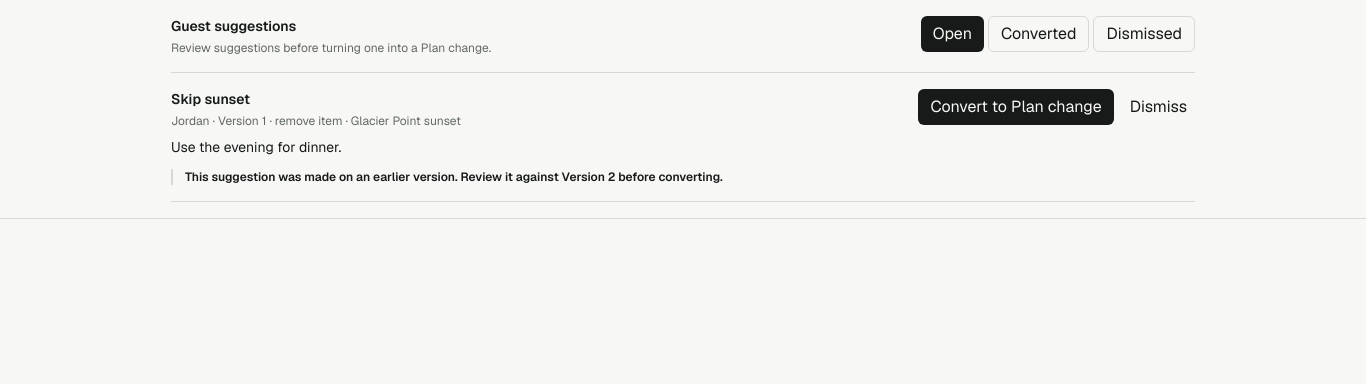
member guest suggestions panel › requires the explicit stale-version rebase confirmation
This screenshot has width=1366, height=384.
Click the button "Convert to Plan change" at (1016,107), box [918,89,1114,125]
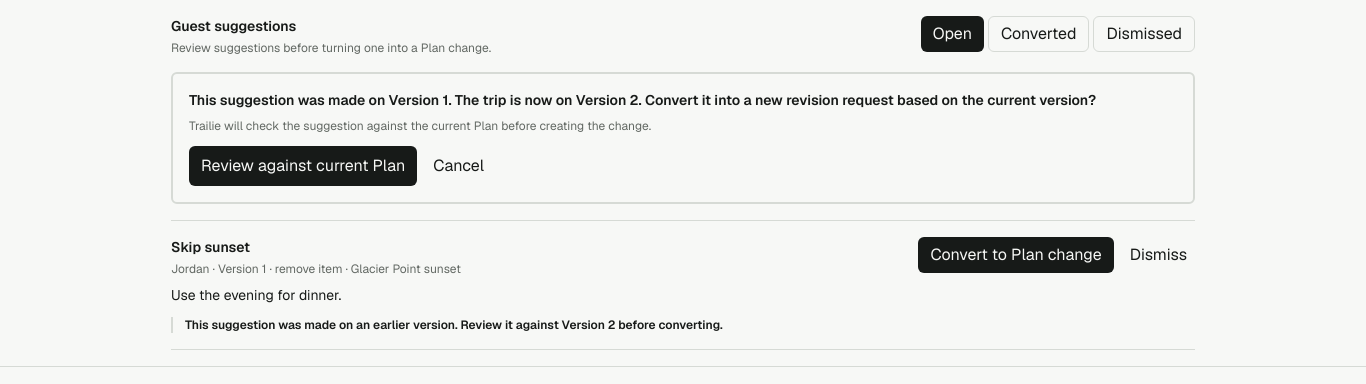
Now the message shows "This suggestion was made on Version 1. The trip is now on Version 2. Convert it into a new revision request based on the current version?", box [189,91,1096,109]
